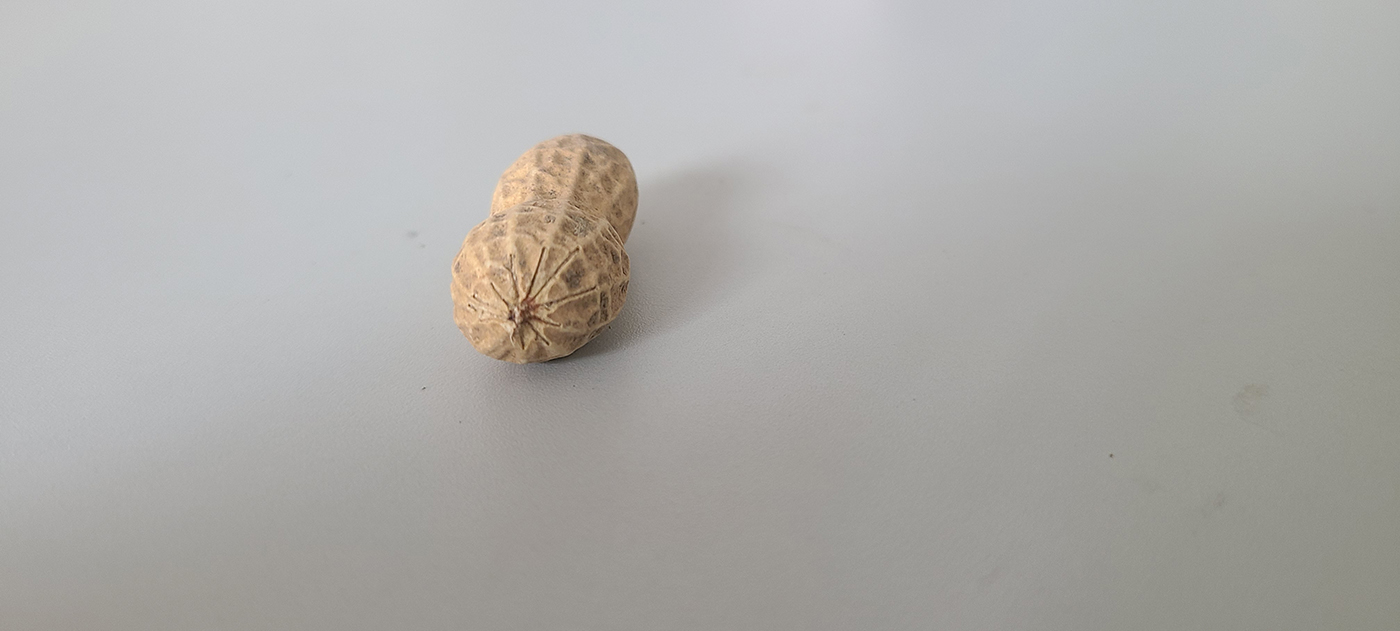h: (450, 129, 640, 363)
